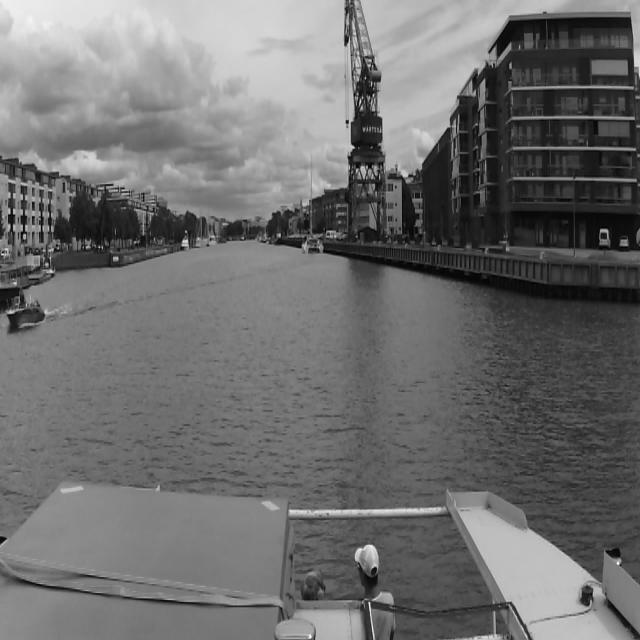ship: (302, 154, 324, 253), (6, 292, 46, 327), (181, 229, 189, 251)
